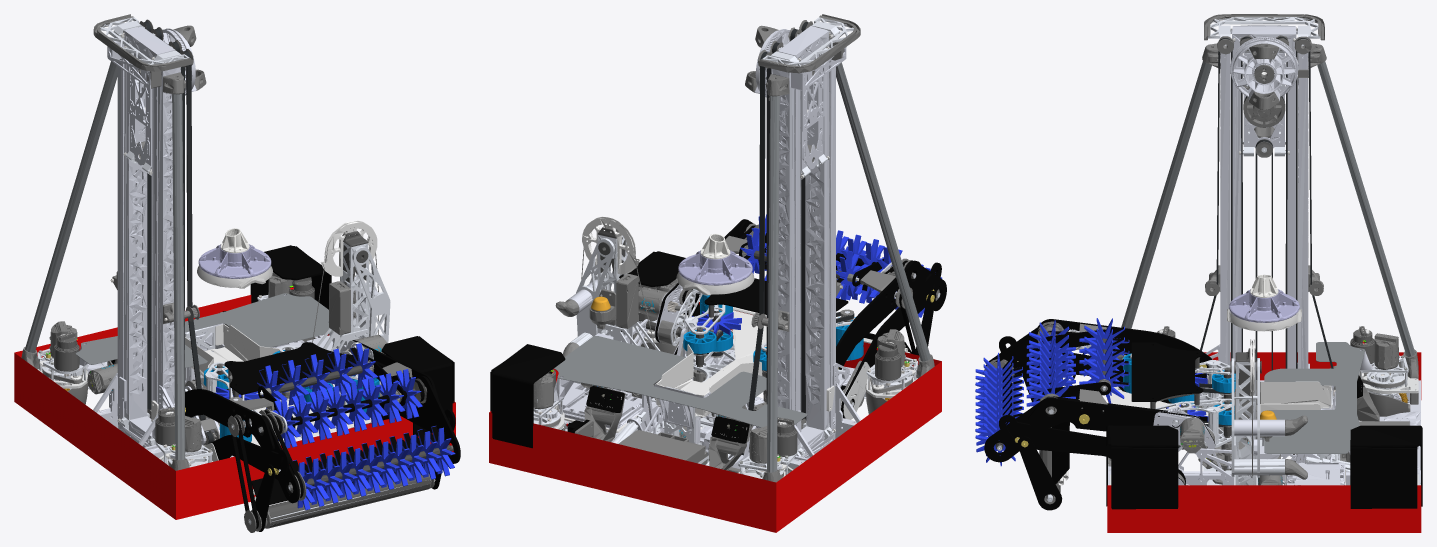
The model's file is whisper-1690.glb.
The picture shows the model from 3 angles, left to right: view 1: azimuth 30°, elevation 25°; view 2: azimuth 150°, elevation 25°; view 3: azimuth 270°, elevation 25°; orthographic projection. The views are drawn at different scales.
Visible parts, largest first — view 1: frame, intake, elevator-stage, effector, carriage, arm; view 2: frame, intake, elevator-stage, effector, carriage, arm; view 3: frame, intake, elevator-stage, arm, effector, carriage.
Boxes of the visible parts, x1,y1,x2,y2 form: frame: (14,14,455,519); intake: (158,334,460,532); elevator-stage: (117,26,181,445); effector: (197,228,272,288); carriage: (123,44,152,175); arm: (162,25,206,95); frame: (489,14,941,532); intake: (622,214,946,419); elevator-stage: (770,26,835,456); effector: (676,233,754,295); carriage: (800,45,829,179); arm: (745,25,790,97); frame: (1106,14,1422,532); intake: (975,318,1233,510); elevator-stage: (1232,25,1297,399); arm: (1230,37,1298,109); effector: (1227,274,1301,331); carriage: (1239,50,1289,157).
Size of the model in its own units: 0.7595 by 1.07 by 1.08.
